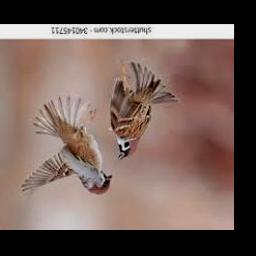Sparrow: (21, 95, 113, 194), (111, 63, 181, 161)
